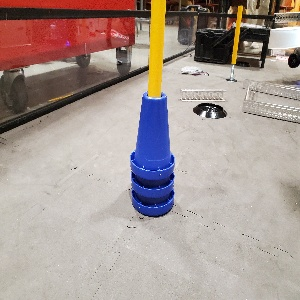Blue_3: (130, 91, 175, 216)
